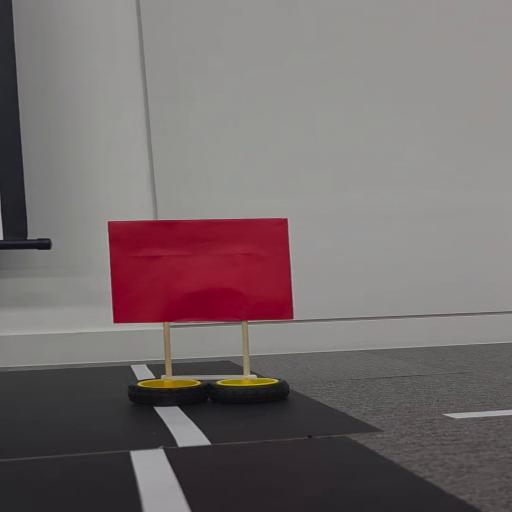Sign_A: (92, 212, 300, 400)
